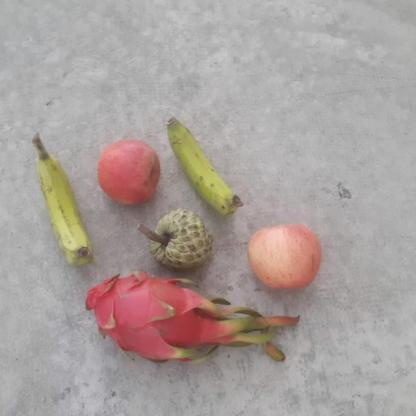annona: (147, 204, 212, 274)
apple: (246, 220, 324, 295), (94, 136, 165, 207)
banana: (164, 112, 244, 214), (35, 148, 96, 264)
pitaya: (86, 271, 209, 364)
